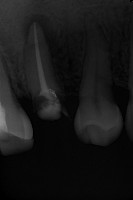Furcation Involvement: (21, 12, 60, 56)
